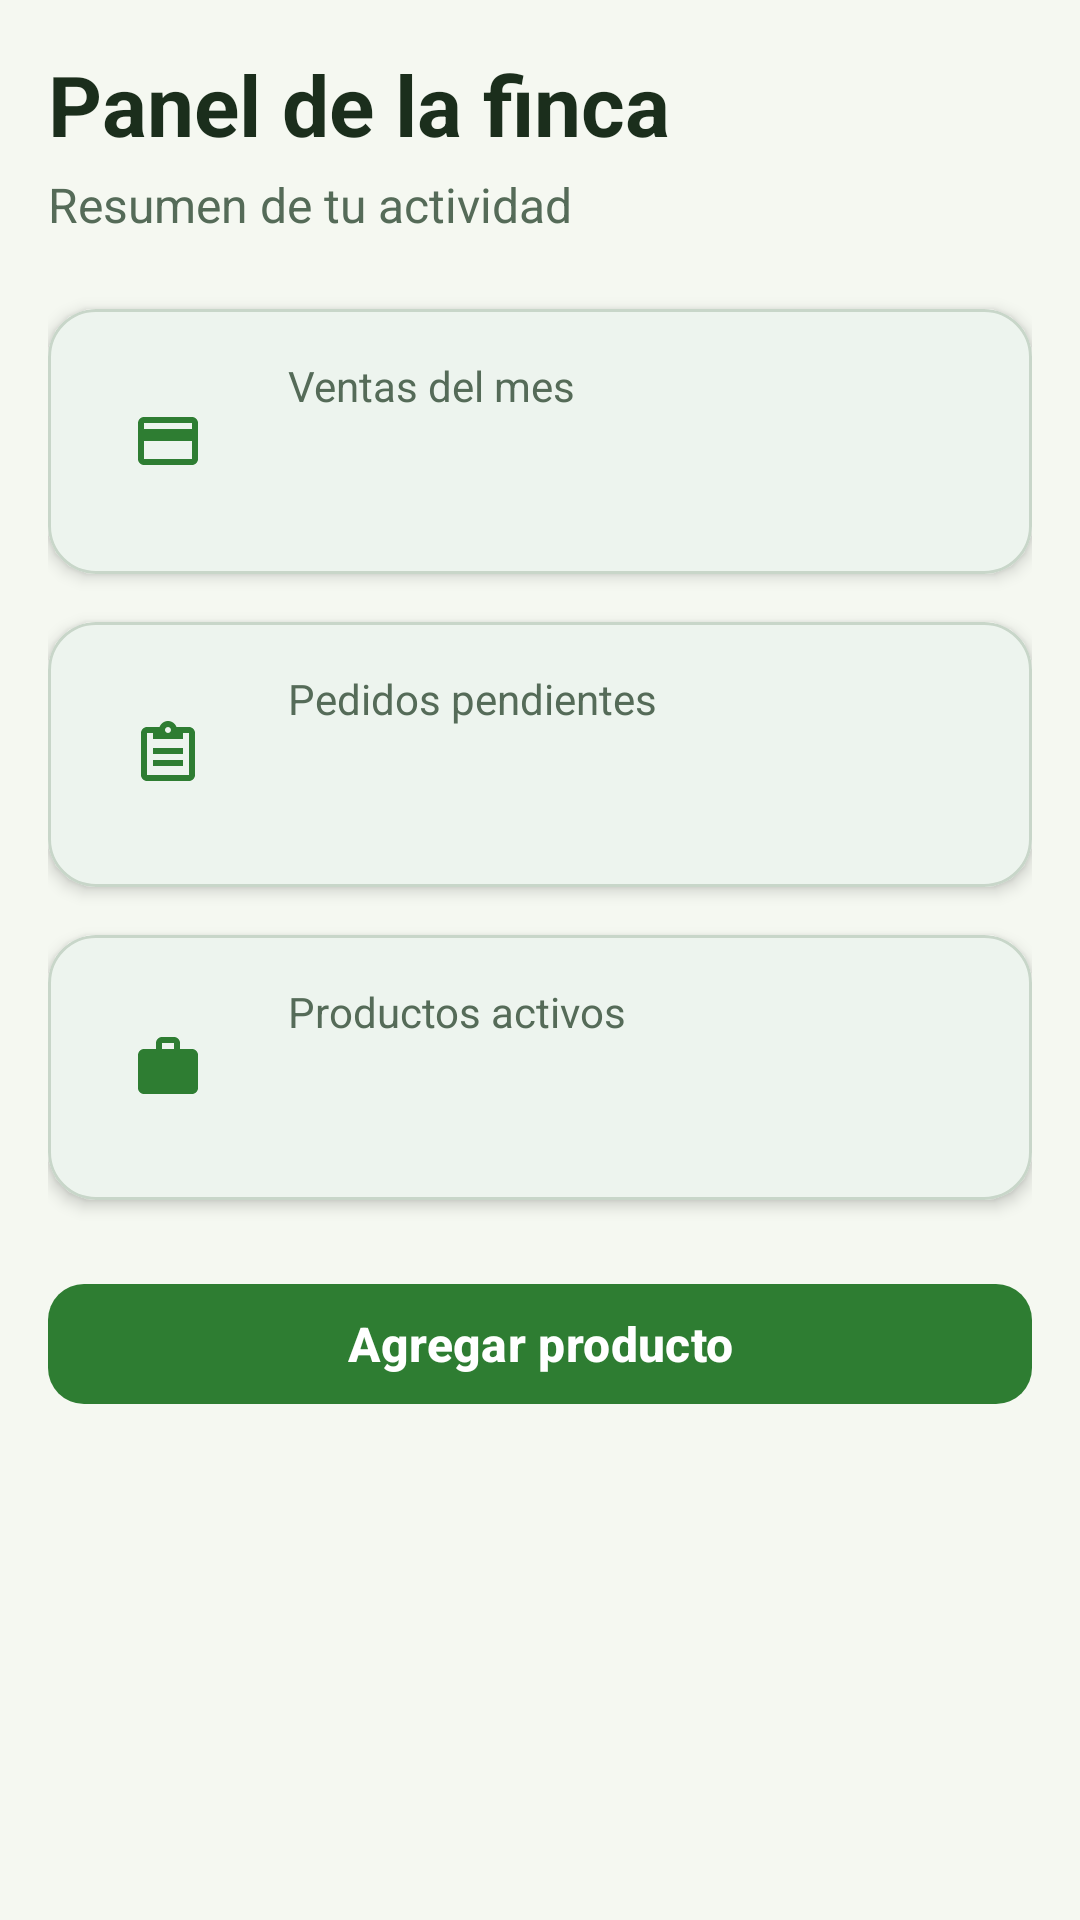

Where to tap for icons on this 1080px x 1920px app screen, as (x,y):
orders: (168,751)
payments: (168,441)
